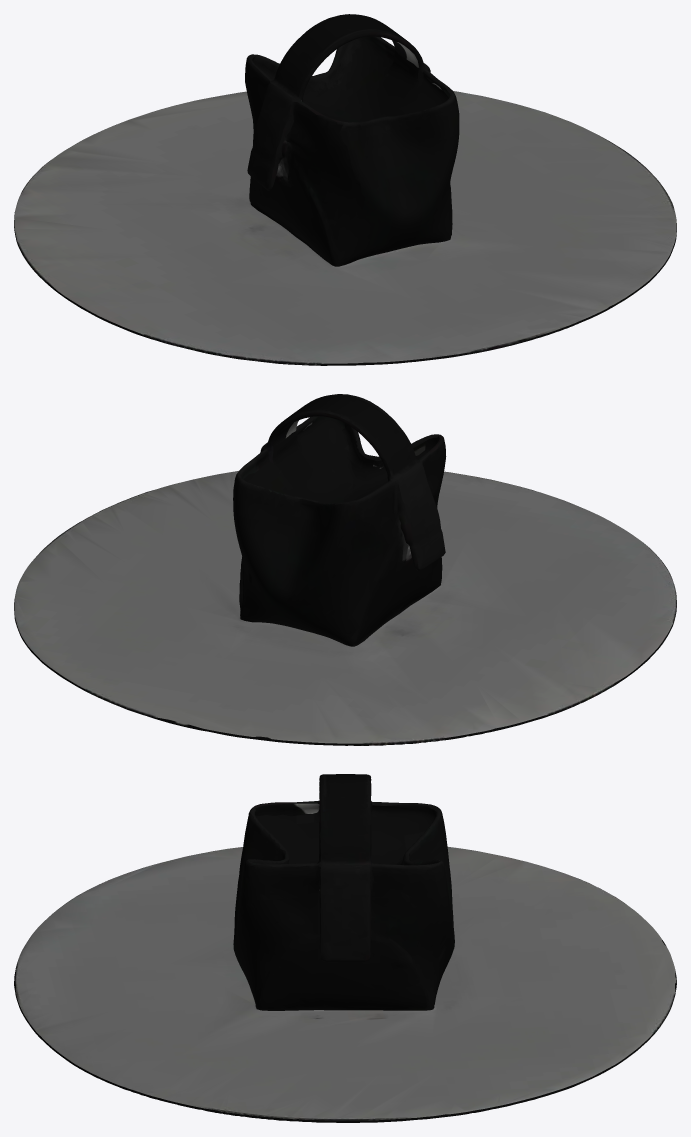
The model's file is acessorios-opt-no-draco.glb.
3 renders of one model, top to bottom at view 1: azimuth 30°, elevation 25°; view 2: azimuth 150°, elevation 25°; view 3: azimuth 270°, elevation 25°, orthographic.
Visible parts, largest first — view 1: textured_mesh; view 2: textured_mesh; view 3: textured_mesh.
Boxes of the visible parts, box(x1,y1,x2,y2) form: textured_mesh: box(14, 14, 676, 365); textured_mesh: box(14, 394, 676, 745); textured_mesh: box(14, 774, 676, 1122).
Size of the model in its own units: 1.99 by 0.6783 by 1.99.
1 material, 1 textured.
